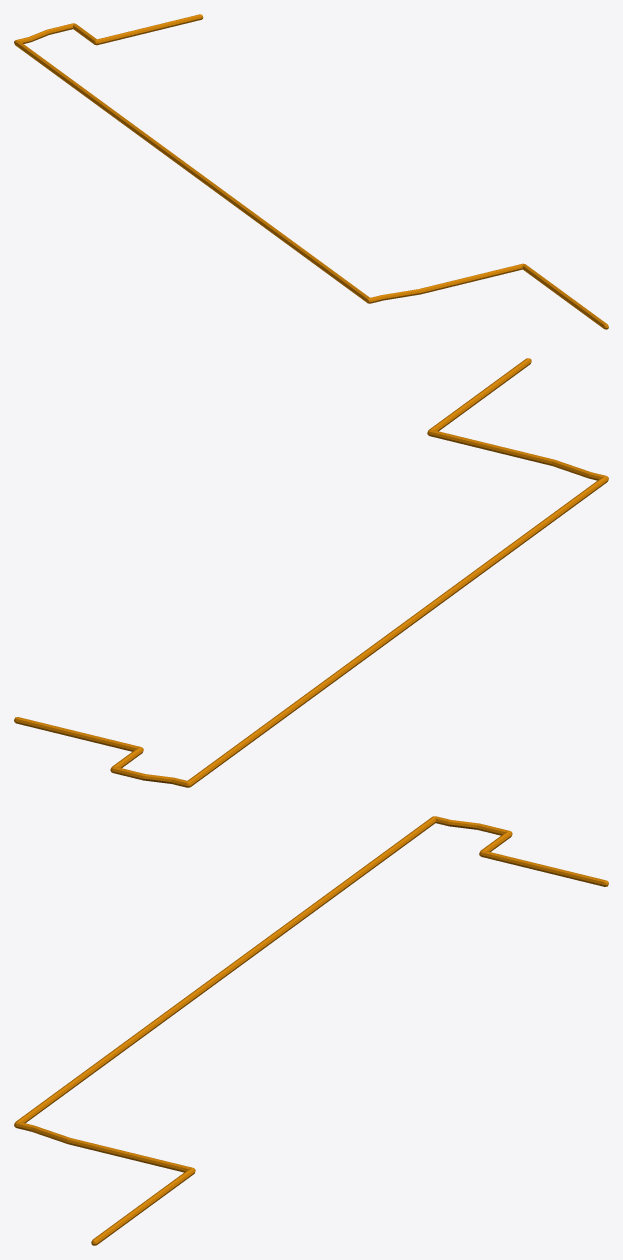
3 views of the same model, one above another, from view 1: azimuth 30°, elevation 25°; view 2: azimuth 150°, elevation 25°; view 3: azimuth 330°, elevation 25° (orthographic). The views are drawn at different scales.
Size of the model in its own units: 651 by 20 by 2960.
